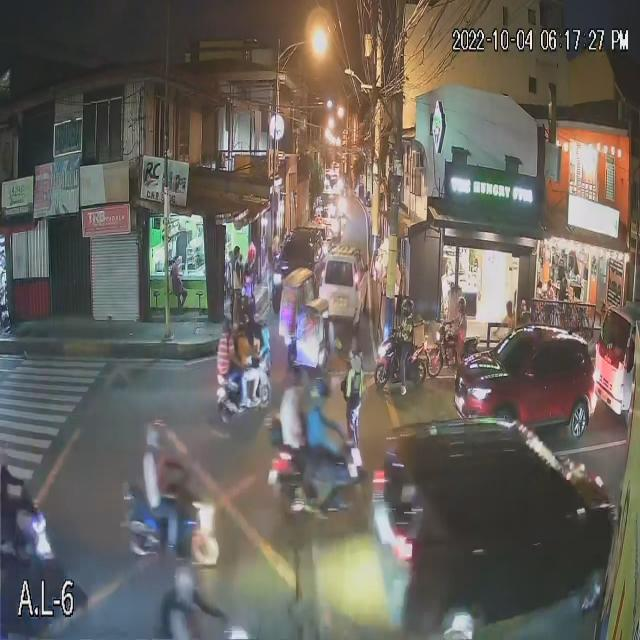helmet: (307, 376, 329, 399), (143, 419, 165, 437), (17, 504, 36, 520)
motorcycle: (121, 480, 221, 568), (267, 439, 365, 519), (0, 503, 56, 595), (215, 350, 272, 422), (373, 326, 420, 390), (428, 347, 480, 380)
rider: (141, 418, 195, 558), (305, 377, 348, 498), (0, 462, 48, 564), (276, 375, 311, 496), (386, 299, 417, 391), (235, 318, 264, 401), (439, 296, 467, 374), (215, 320, 238, 396)
